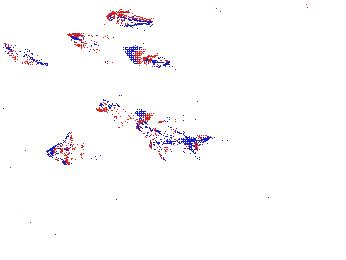X-ray fish: (45, 141, 101, 165), (145, 163, 168, 203), (257, 237, 290, 260)
red belly glassfish: (105, 8, 157, 32), (142, 54, 171, 71)
redtail glassfish: (66, 30, 144, 73), (134, 116, 202, 156), (1, 39, 54, 78), (96, 93, 148, 125)
